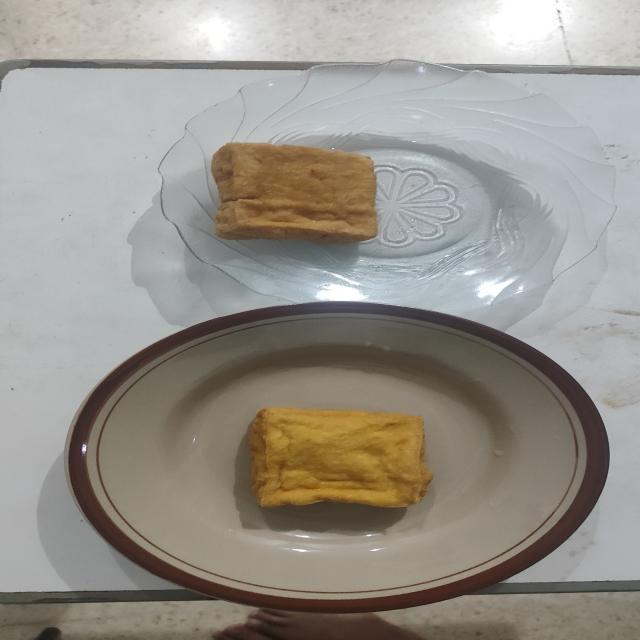tahu_goreng: (248, 408, 432, 508), (212, 143, 378, 243)
